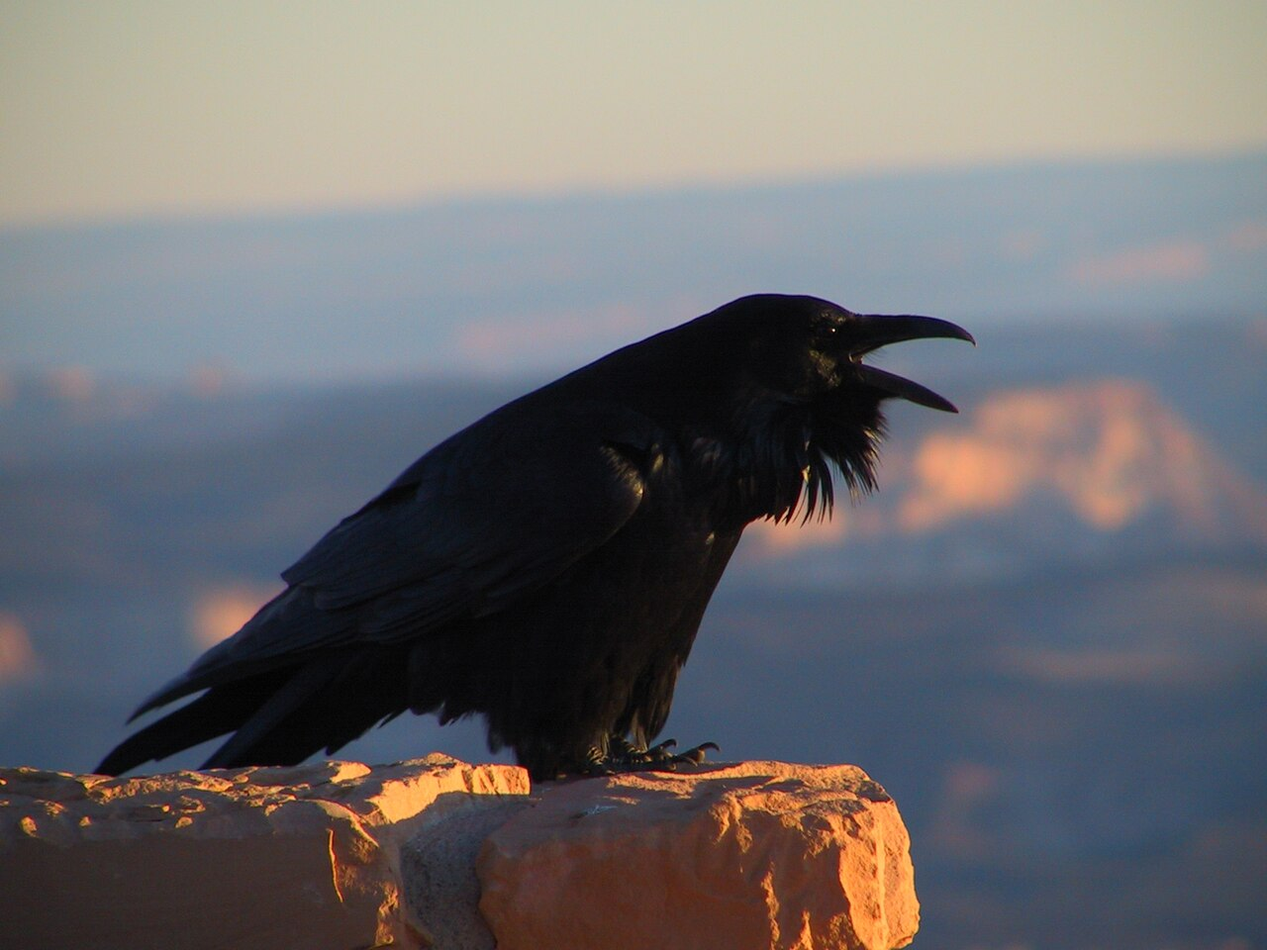ворон: (112, 185, 986, 825)
